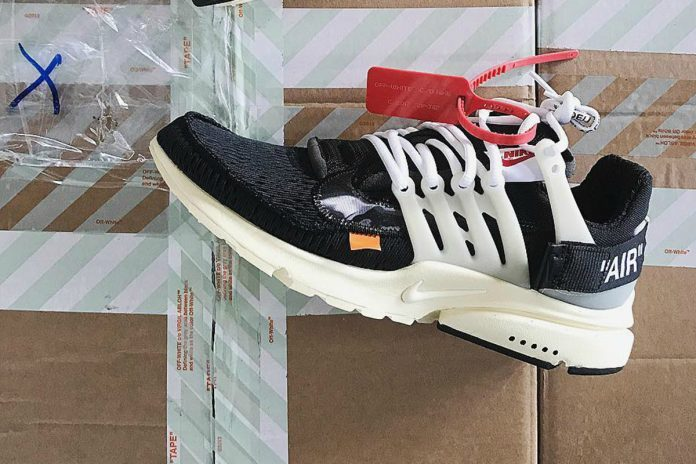Nike x OFF--WHITE Air Presto OG: (144, 51, 652, 392)
